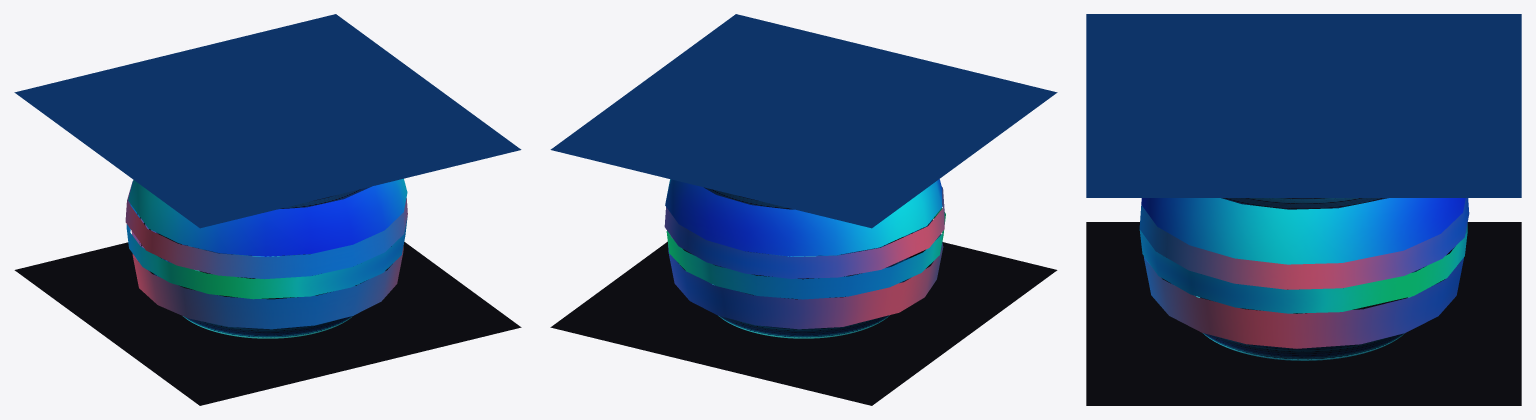
3 renders of one model, left to right at view 1: azimuth 30°, elevation 25°; view 2: azimuth 150°, elevation 25°; view 3: azimuth 270°, elevation 25°, orthographic. The views are drawn at different scales.
Visible parts, largest first — view 1: Plane002, Plane001, skybox003, Object013, Object015, skybox001; view 2: Plane002, Plane001, skybox003, Object013, Object015, skybox001; view 3: Plane002, Plane001, skybox003, Object013, Object015, skybox001.
Boxes of the visible parts, x1,y1,x2,y2 form: Plane002: (14, 14, 521, 228); Plane001: (14, 242, 521, 405); skybox003: (125, 181, 407, 329); Object013: (128, 178, 407, 256); Object015: (126, 204, 407, 299); skybox001: (137, 186, 391, 338); Plane002: (550, 14, 1057, 228); Plane001: (550, 237, 1057, 405); skybox003: (664, 186, 944, 329); Object013: (665, 179, 942, 256); Object015: (666, 208, 945, 299); skybox001: (683, 187, 935, 338); Plane002: (1086, 14, 1521, 197); Plane001: (1086, 222, 1521, 405); skybox003: (1139, 198, 1469, 348); Object013: (1141, 198, 1465, 264); Object015: (1139, 223, 1467, 313); skybox001: (1163, 198, 1451, 360).
Bounding box in the file's own units: 50 × 27.53 × 50.
6 materials, 4 textured.
